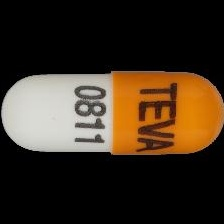67544-078: (0, 0, 224, 224)
